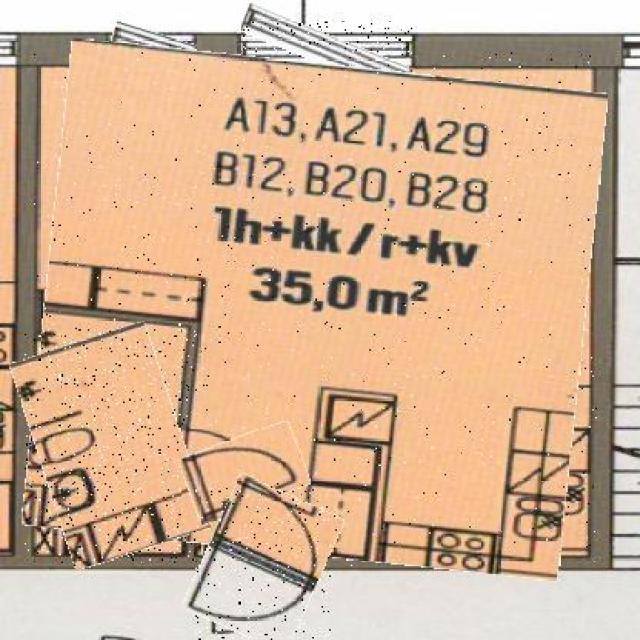door: (194, 481, 331, 640), (182, 431, 308, 517)
window: (240, 20, 412, 80), (109, 28, 197, 70)
zone: (34, 52, 597, 566), (25, 329, 197, 562)
